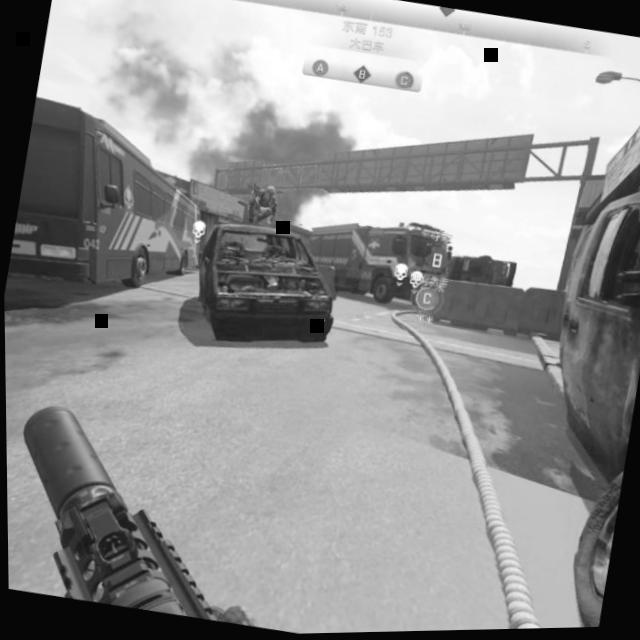MW2_body: (243, 182, 281, 230)
